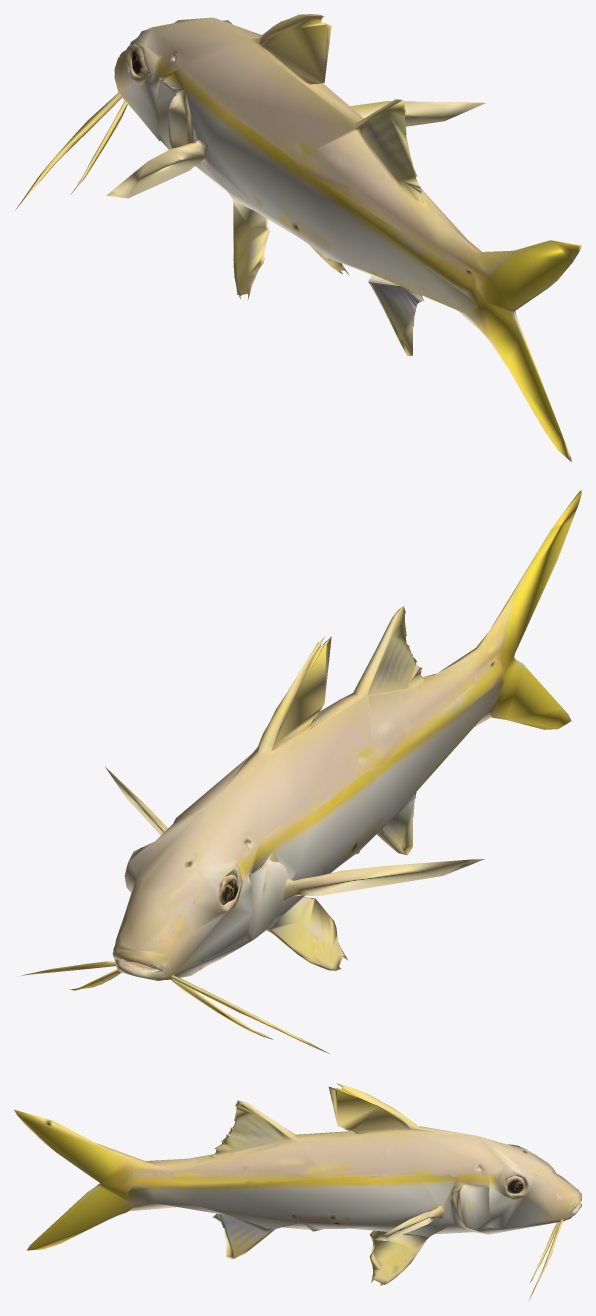
The model's file is gele_geitenvis-ver.glb.
The picture shows the model from 3 angles, top to bottom: view 1: azimuth 30°, elevation 25°; view 2: azimuth 150°, elevation 25°; view 3: azimuth 270°, elevation 25°; orthographic projection. The views are drawn at different scales.
Parts seen in each view (by area): view 1: tripo_node_f49fe66d-a244-4916-a406-d44ea614bd53; view 2: tripo_node_f49fe66d-a244-4916-a406-d44ea614bd53; view 3: tripo_node_f49fe66d-a244-4916-a406-d44ea614bd53.
Part boxes in pixels (x1,y1,x2,y2): tripo_node_f49fe66d-a244-4916-a406-d44ea614bd53: [15, 14, 581, 461]; tripo_node_f49fe66d-a244-4916-a406-d44ea614bd53: [16, 490, 581, 1053]; tripo_node_f49fe66d-a244-4916-a406-d44ea614bd53: [14, 1083, 581, 1299].
Size of the model in its own units: 1.35 by 1 by 2.76.
1 material, 1 textured.
